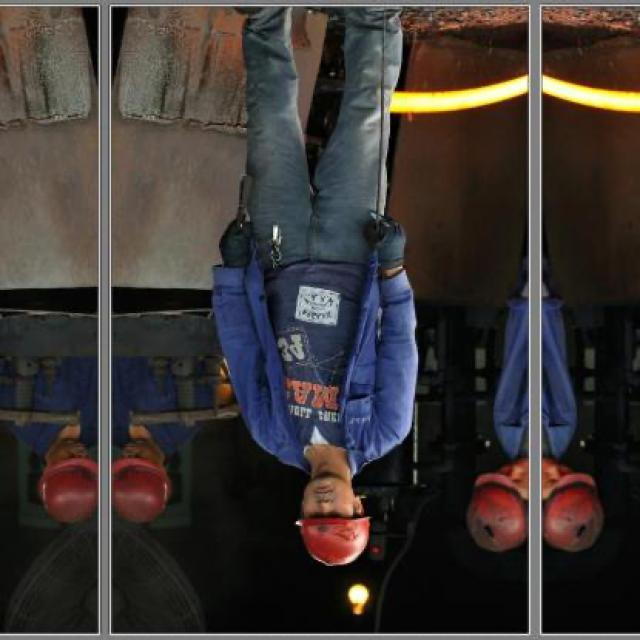con casco: (290, 452, 416, 555), (109, 437, 205, 541), (573, 449, 632, 556), (444, 477, 524, 552), (60, 414, 100, 543)
